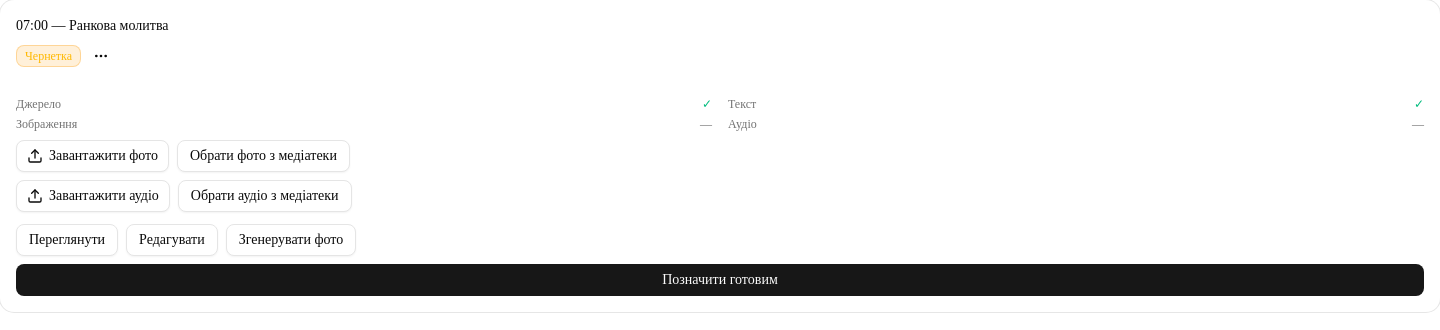
Test case: SlotCard › shows view/edit/mark-ready directly, and puts regenerate behind the [...] dropdown, once text exists on a DRAFT slot
Check: the button "Переглянути" is shown, box [16,224,118,256]
Check: the button "Редагувати" is shown, box [126,224,218,256]
Click the button named "Додаткові дії". click: coordinates (101, 56)
box: [85,40,117,72]
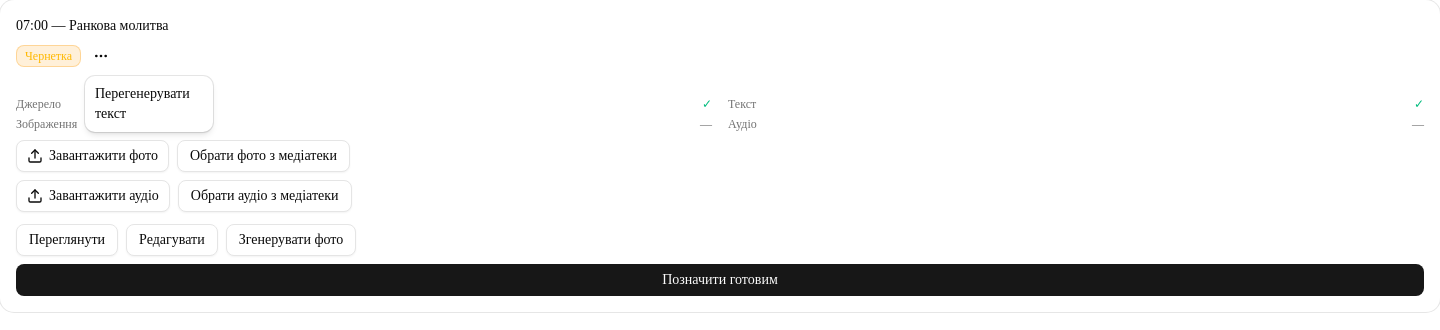
Check: the menu item "Перегенерувати текст" is shown, box [95,86,190,121]
